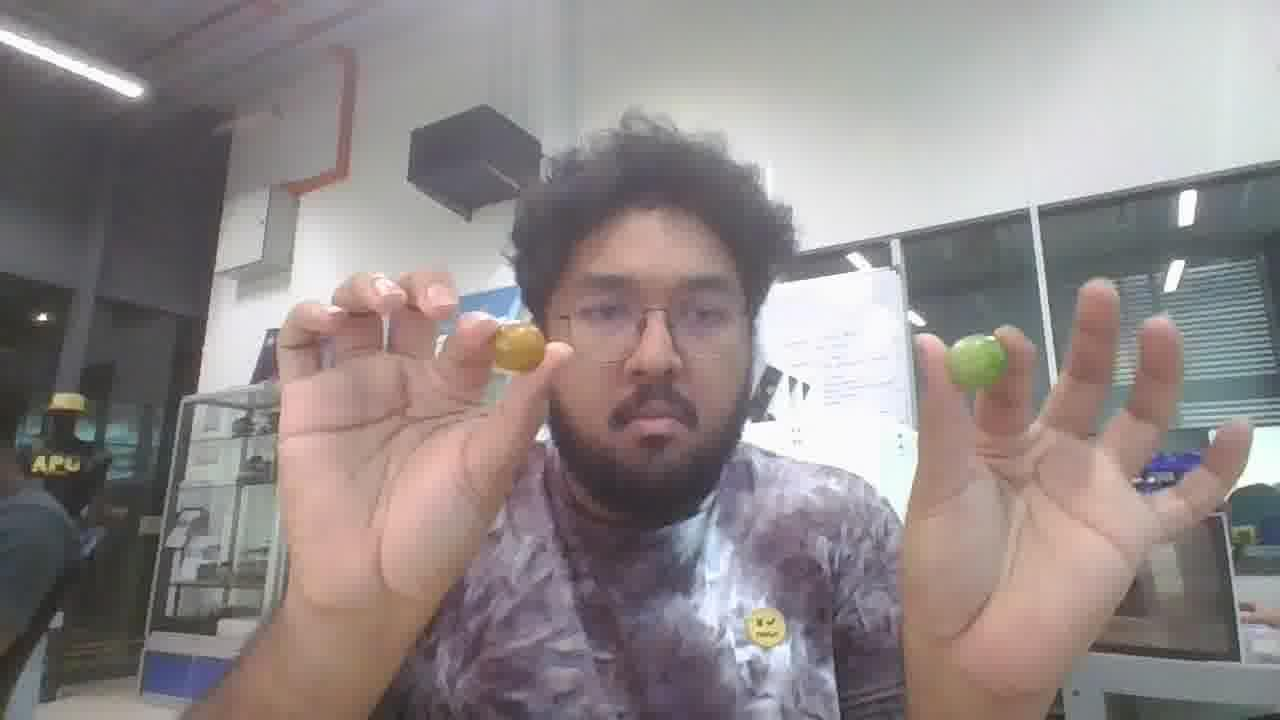green_cherry_tomato: (946, 335, 1007, 389)
yellow_cherry_tomato: (494, 322, 545, 371)
